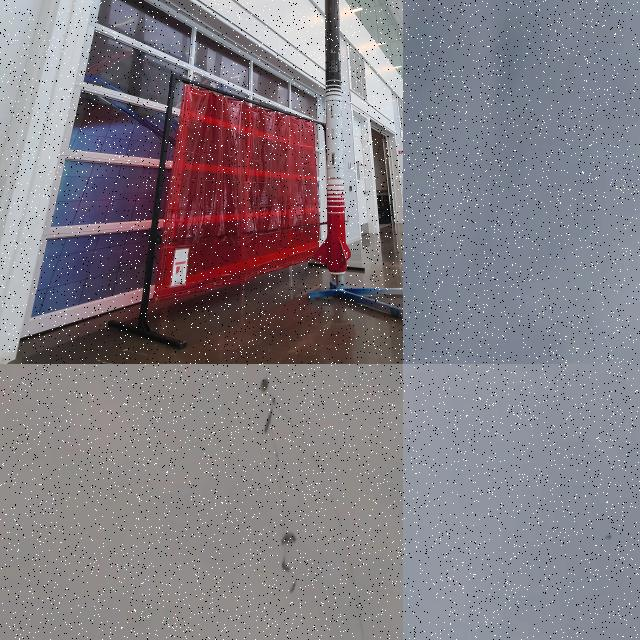Rocket: (314, 0, 351, 273), (604, 535, 612, 539)
